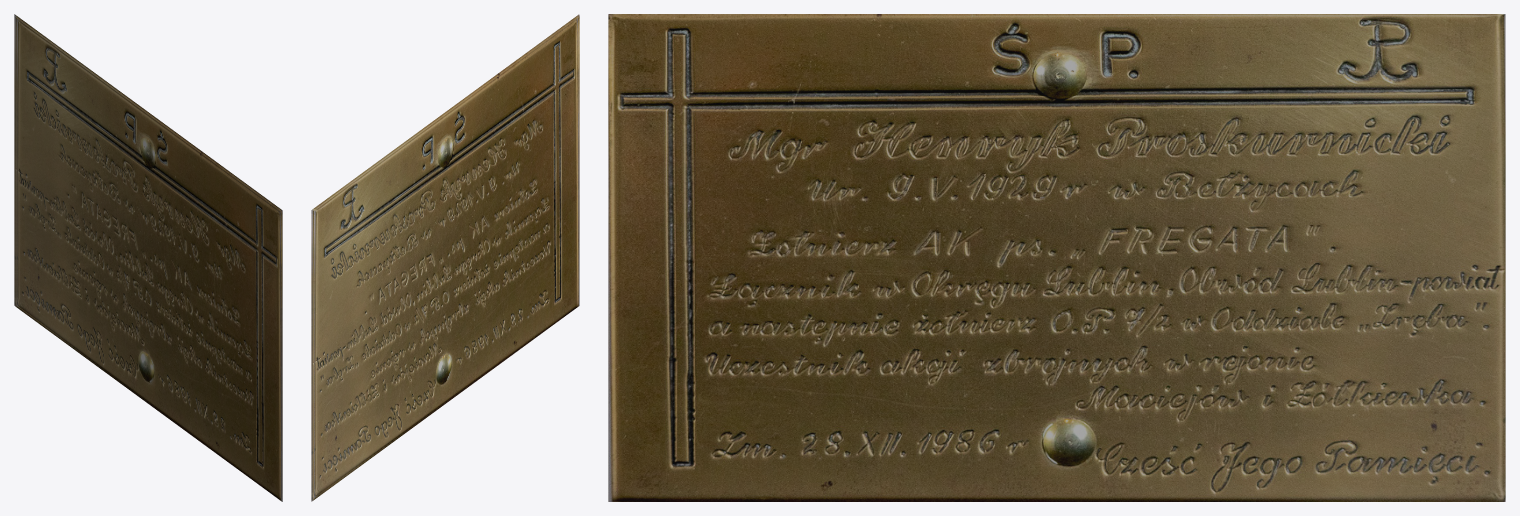
The model's file is 31. ŚP. mgr HENRYK PROSKURNICKI.glb.
The picture shows the model from 3 angles, left to right: view 1: azimuth 30°, elevation 25°; view 2: azimuth 150°, elevation 25°; view 3: azimuth 270°, elevation 25°; orthographic projection. The views are drawn at different scales.
Parts seen in each view (by area): view 1: Plane; view 2: Plane; view 3: Plane.
Part boxes in pixels (bbox=[...]): Plane: bbox=[14, 14, 282, 501]; Plane: bbox=[311, 14, 579, 501]; Plane: bbox=[608, 14, 1505, 501].
Size of the model in its own units: 0.0102 by 8.7 by 14.5.
Materials: 1 (1 with a texture image).
